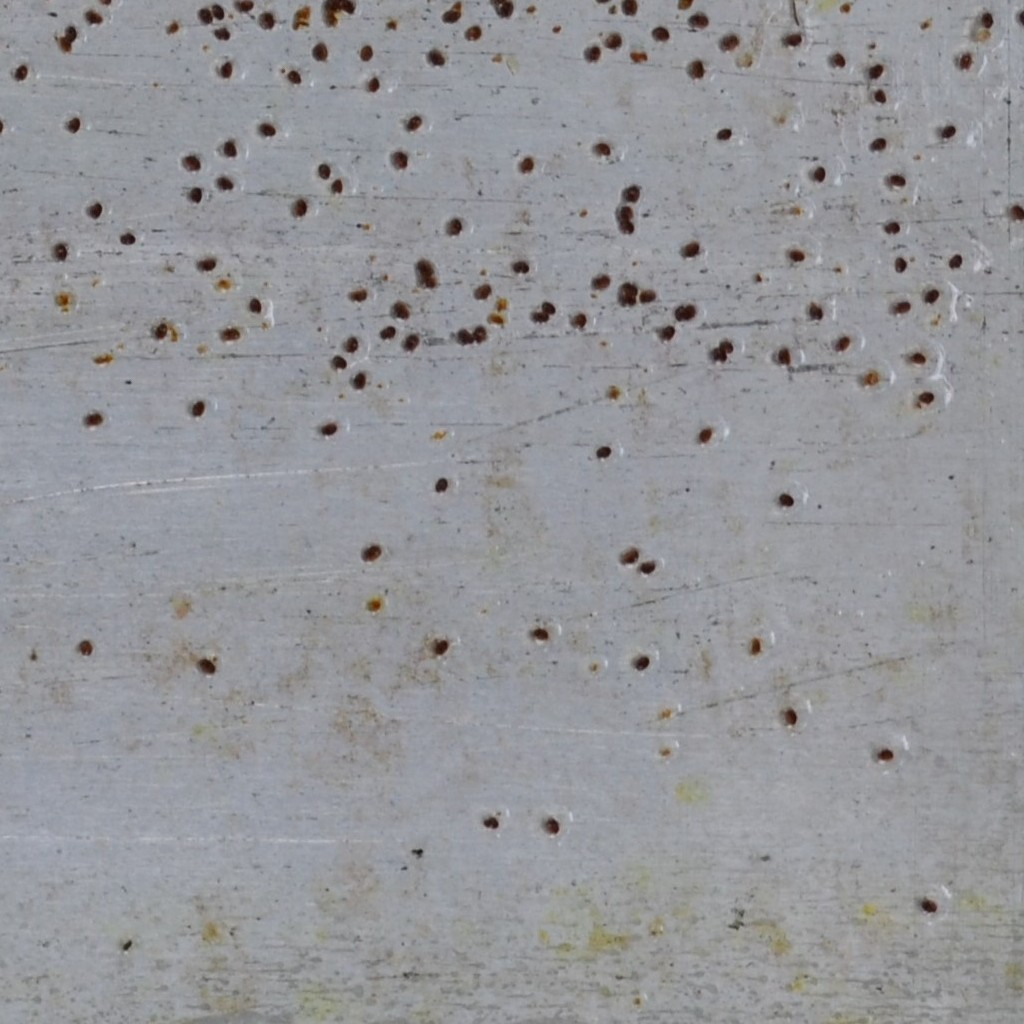varroa: (865, 130, 889, 157), (425, 46, 449, 71), (388, 147, 410, 174), (685, 57, 706, 84), (716, 32, 739, 56), (916, 895, 940, 918), (601, 29, 623, 54), (781, 704, 800, 731), (359, 543, 383, 564), (470, 281, 494, 302), (472, 322, 492, 347), (637, 285, 659, 307), (939, 120, 959, 144), (685, 13, 709, 33), (587, 273, 611, 293), (289, 196, 309, 220), (220, 138, 239, 163), (401, 330, 420, 355), (217, 325, 242, 344), (517, 153, 535, 179), (865, 61, 886, 83), (581, 43, 602, 65), (404, 113, 425, 135), (541, 814, 562, 836), (195, 655, 217, 676), (414, 254, 435, 276), (180, 153, 202, 174), (886, 170, 909, 190), (780, 31, 803, 51), (463, 22, 483, 45), (681, 238, 701, 261), (350, 367, 367, 394), (258, 9, 277, 33), (616, 548, 641, 566), (189, 397, 207, 422), (595, 139, 616, 160), (921, 286, 943, 306), (786, 246, 806, 268), (806, 301, 826, 323), (831, 332, 851, 354), (441, 8, 463, 28), (328, 353, 348, 375), (82, 409, 102, 431), (947, 252, 966, 275), (529, 625, 552, 644), (443, 215, 461, 239), (86, 198, 103, 223), (633, 655, 653, 676), (694, 424, 714, 445), (347, 286, 368, 306), (492, 0, 514, 19), (310, 40, 329, 62), (481, 812, 503, 831), (195, 256, 217, 275), (316, 419, 339, 437), (891, 297, 911, 317), (623, 184, 643, 204), (810, 164, 829, 185), (649, 24, 670, 43), (777, 489, 796, 510), (214, 173, 235, 192), (378, 325, 397, 346), (343, 332, 362, 353), (880, 218, 902, 236), (891, 254, 909, 276), (591, 444, 613, 462), (571, 309, 588, 332), (776, 346, 791, 372), (830, 48, 846, 72), (956, 51, 975, 71), (83, 7, 103, 26), (10, 63, 29, 83), (617, 217, 637, 236), (454, 327, 473, 347), (907, 350, 928, 368), (618, 0, 639, 18), (195, 6, 213, 27), (745, 635, 763, 656), (432, 638, 450, 659), (75, 636, 93, 657), (415, 275, 440, 290), (217, 58, 234, 80), (389, 301, 411, 318), (979, 8, 995, 31), (433, 475, 449, 498), (915, 388, 934, 407), (715, 126, 734, 145), (211, 25, 230, 44), (871, 85, 889, 105), (529, 308, 549, 326), (246, 295, 264, 315), (875, 746, 896, 763), (617, 279, 638, 296), (187, 183, 204, 204), (153, 321, 169, 343), (615, 293, 638, 308), (285, 66, 303, 85), (119, 230, 137, 249), (65, 115, 82, 135), (358, 43, 374, 64), (511, 259, 532, 275), (682, 300, 697, 322), (364, 75, 381, 94), (52, 243, 69, 262), (1007, 202, 1023, 222), (57, 35, 73, 55), (637, 560, 658, 575), (718, 336, 735, 354), (540, 298, 558, 315), (211, 2, 227, 21), (710, 347, 729, 363), (258, 122, 277, 138), (317, 160, 332, 180), (617, 203, 634, 220), (339, 1, 356, 17), (65, 22, 77, 44), (235, 0, 254, 13), (330, 177, 343, 196), (674, 303, 686, 322), (1017, 9, 1023, 29)
